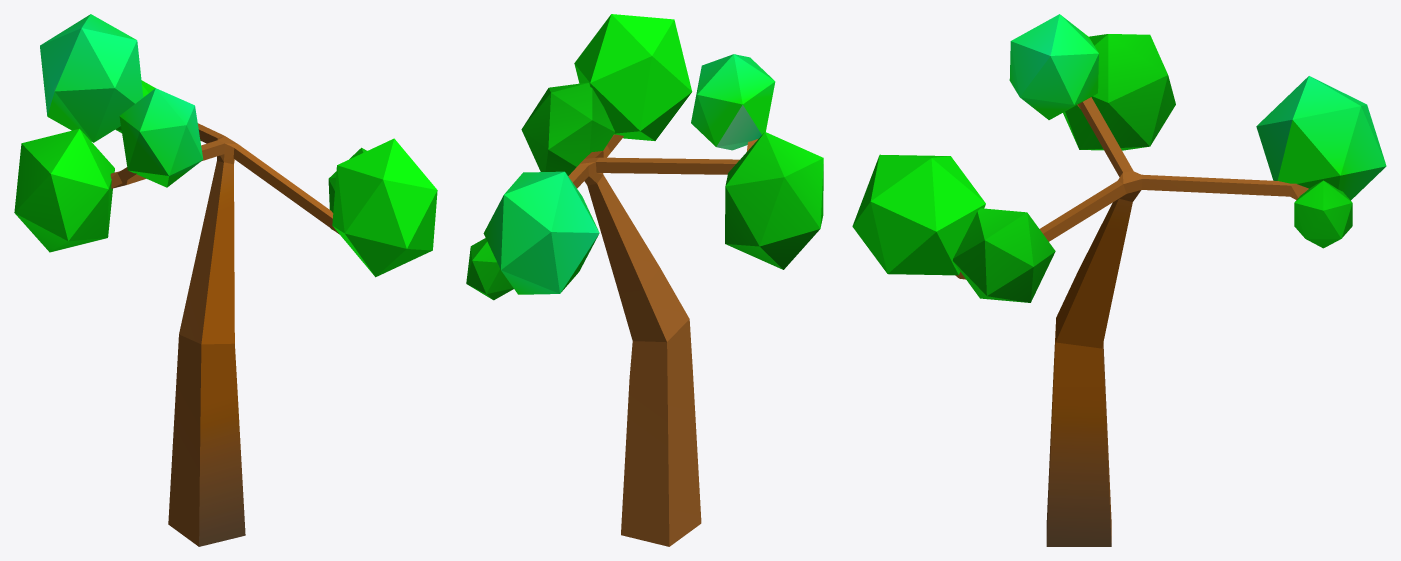
Rendered from TA_sm_tree_var02.fbx.
The picture shows the model from 3 angles, left to right: view 1: azimuth 30°, elevation 25°; view 2: azimuth 150°, elevation 25°; view 3: azimuth 270°, elevation 25°; orthographic projection. The views are drawn at different scales.
Visible parts, largest first — view 1: Arbol; view 2: Arbol; view 3: Arbol.
Part boxes in pixels (x1,y1,x2,y2): Arbol: (14, 14, 437, 546); Arbol: (466, 14, 823, 546); Arbol: (852, 14, 1386, 546).
Size of the model in its own units: 5.94 by 8.02 by 7.92.
Materials: 1 (1 with a texture image).
